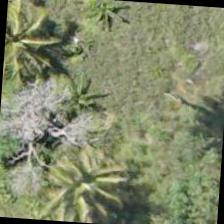Kelapa_Sawit: (35, 134, 132, 223)
